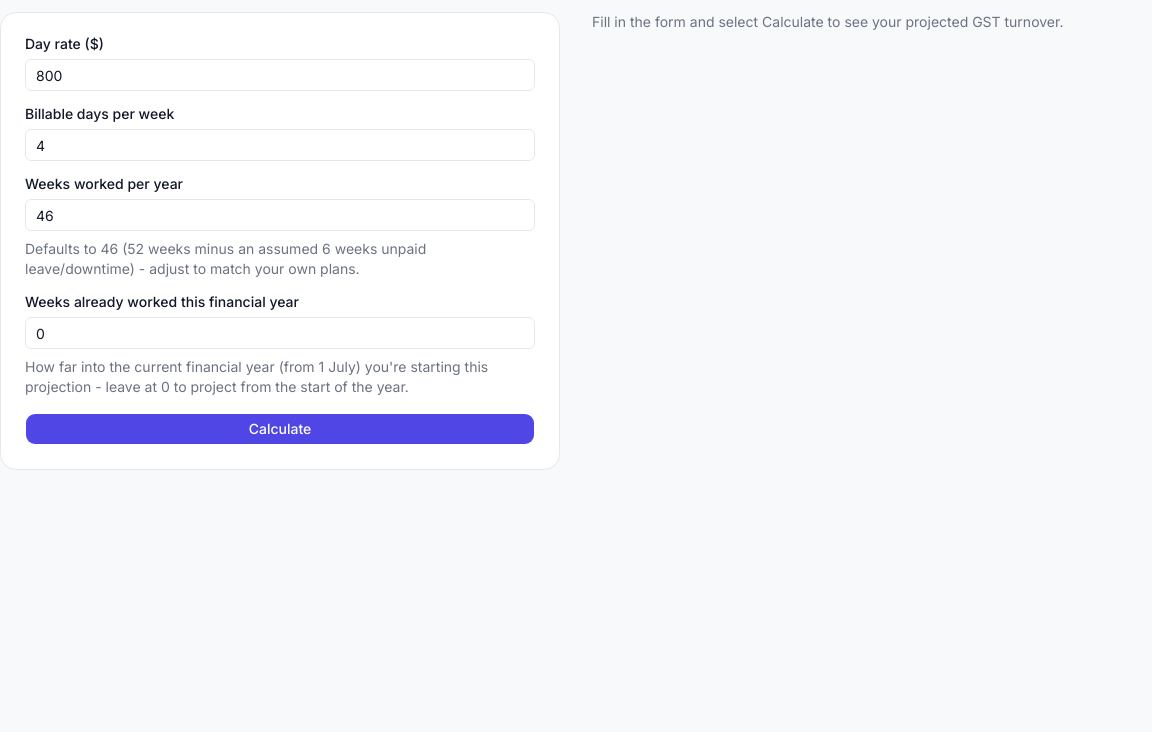
GstThresholdCalculator › integration: a crossing projection shows the 21-day registration obligation framing, FY2026-27's crossing month
Replace the text in the number field labelled "Day rate ($)" with "500": (280, 75) [25,59,535,91]
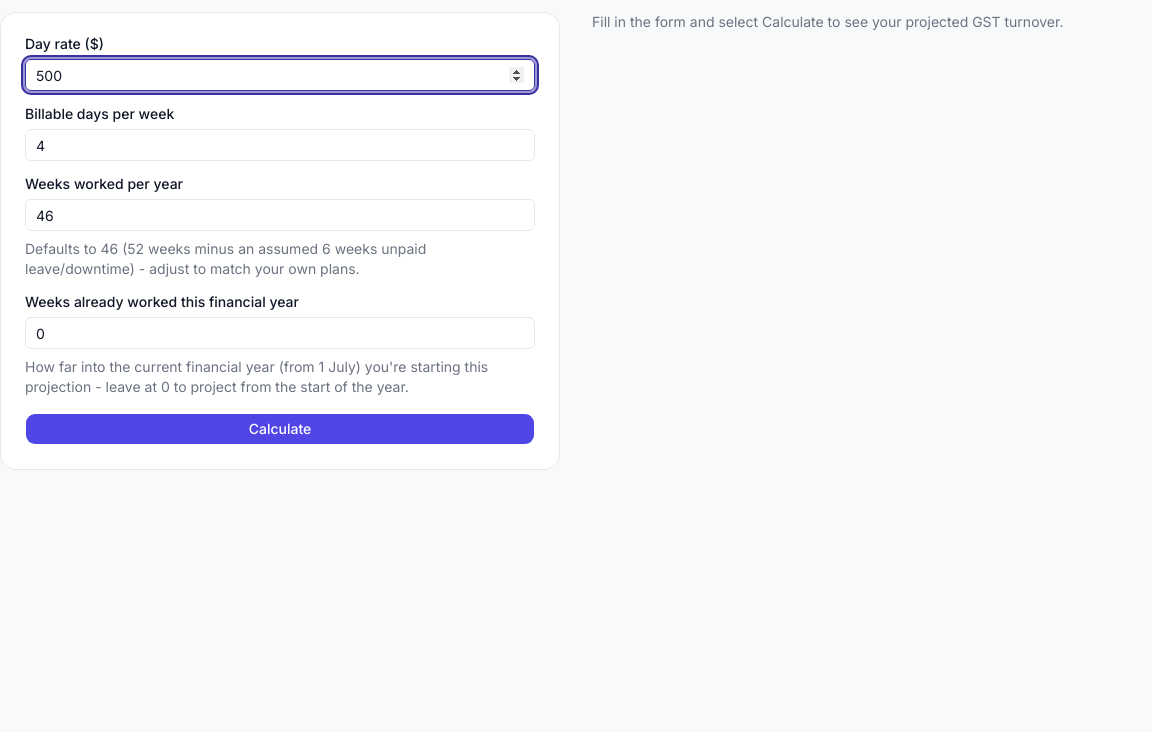
Replace the text in the number field labelled "Billable days per week" with "3": (280, 145) [25,129,535,161]
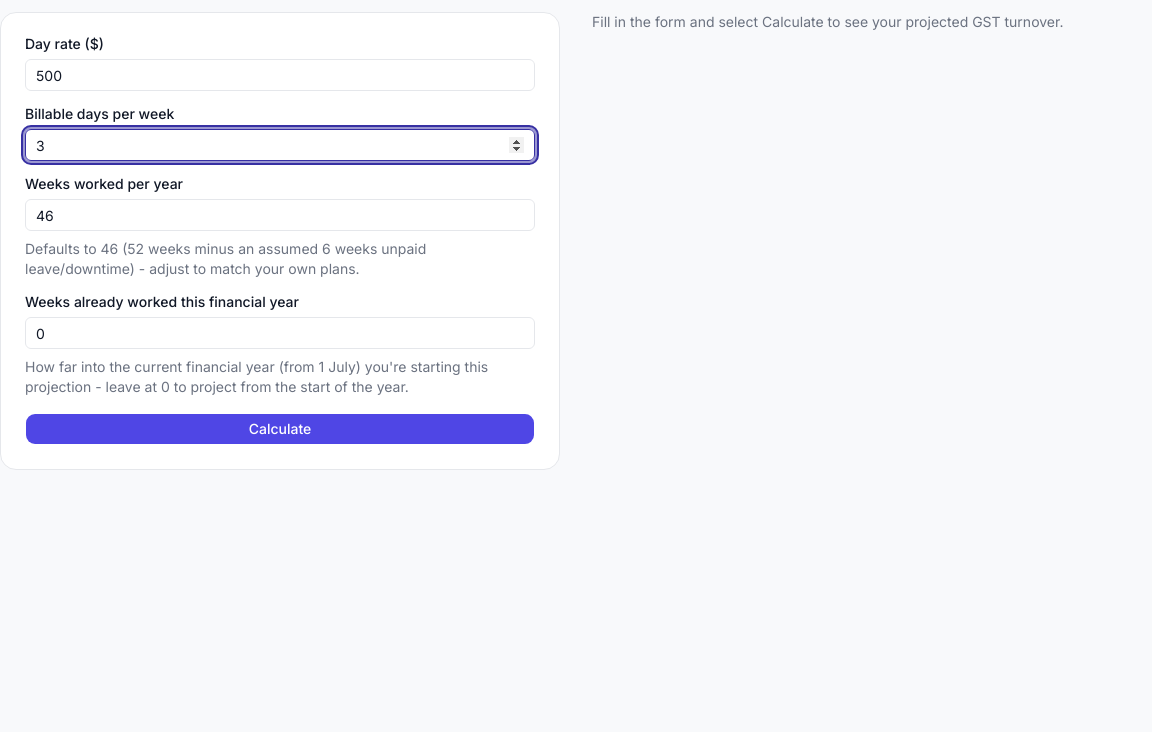
Replace the text in the number field labelled "Weeks worked per year" with "50": (280, 215) [25,199,535,231]
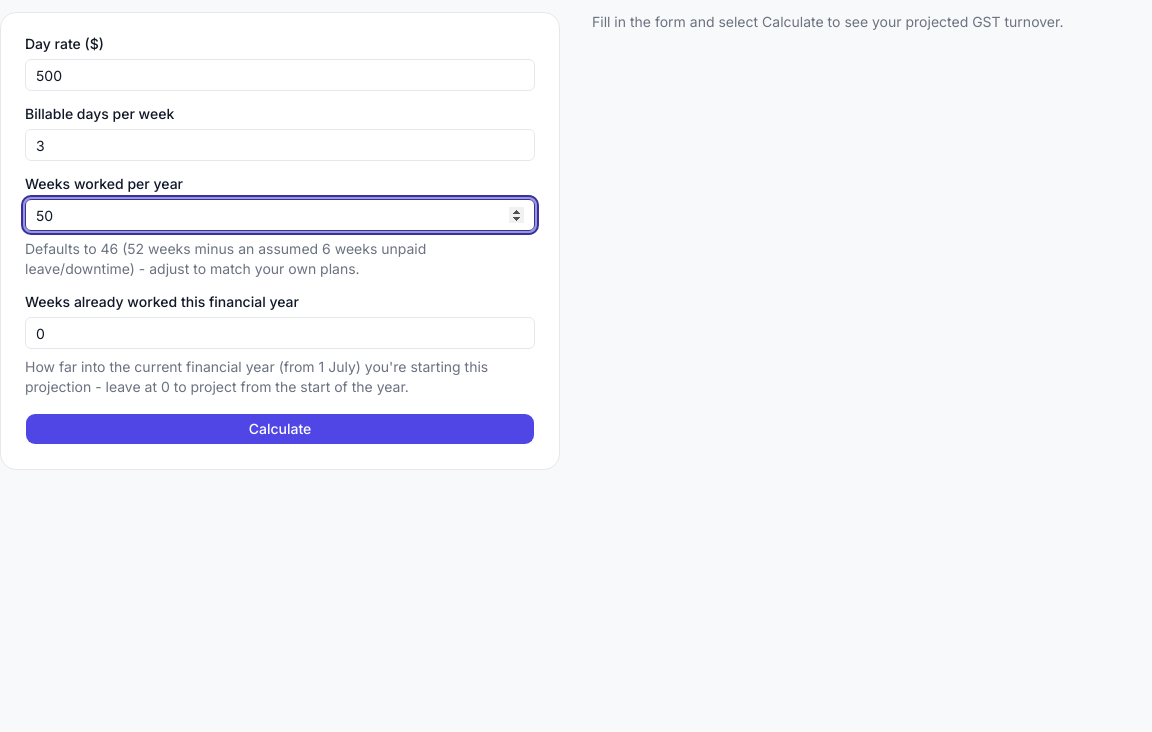
Click the button "Calculate": click(280, 429) [25,413,535,445]
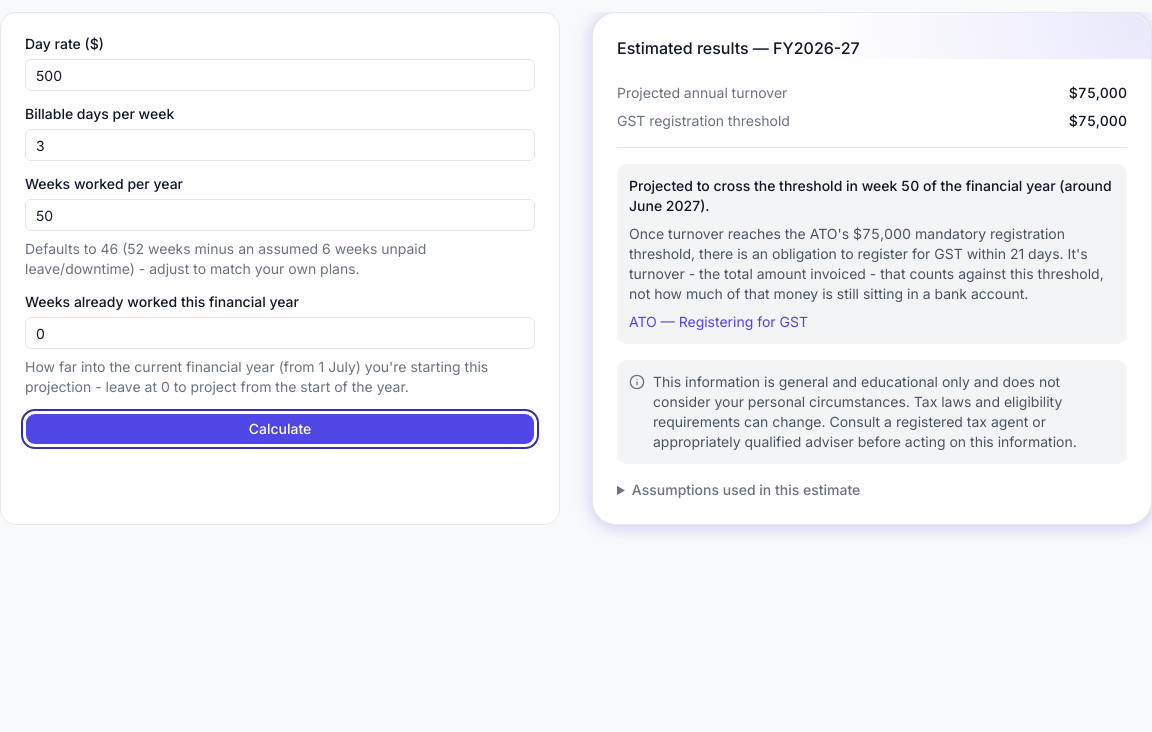
Result: the text "Projected to cross the threshold in week" is shown at [629,177,897,194]
Result: the text "june 2027" is shown at [629,197,700,214]
Result: the text "21 days" is shown at [629,225,1104,302]
